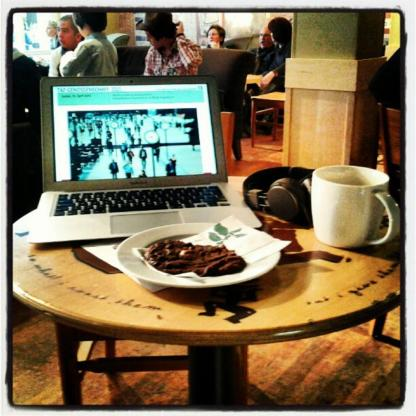board: (30, 75, 262, 245)
